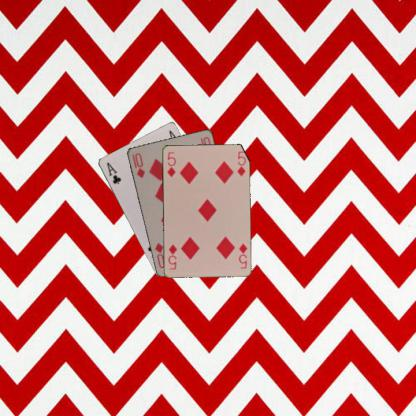10d: (130, 150, 146, 179)
5d: (164, 149, 177, 179), (236, 240, 248, 270)
Ac: (104, 160, 122, 186)
